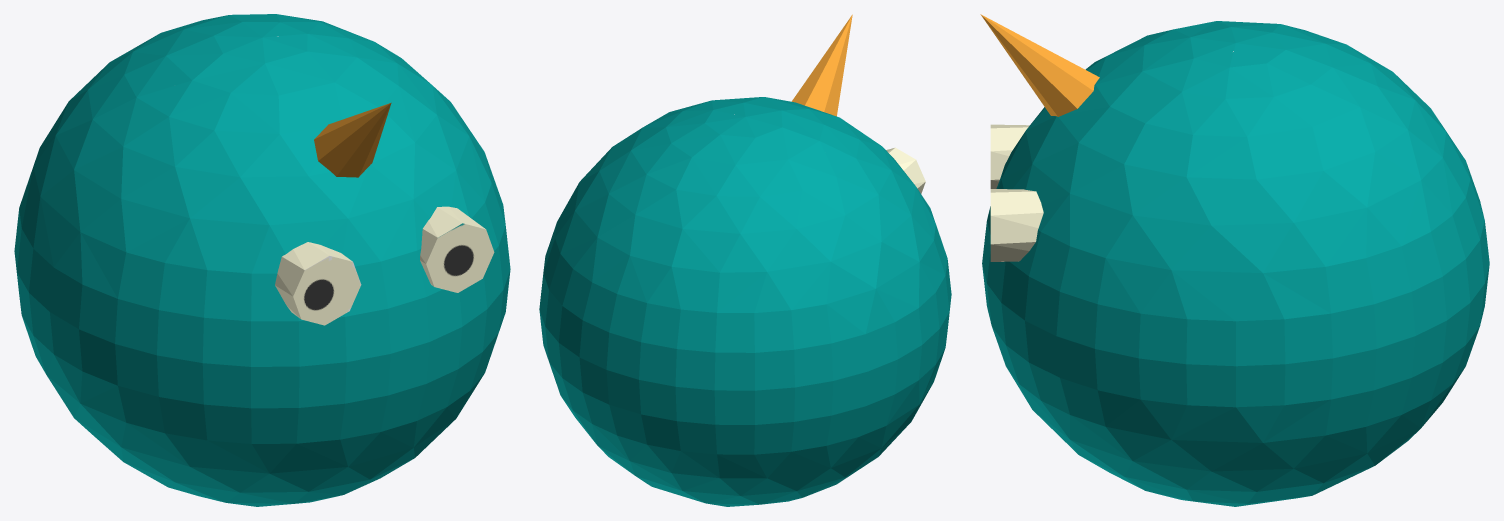
The model's file is player.obj.
3 views of the same model, side by side, from view 1: azimuth 30°, elevation 25°; view 2: azimuth 150°, elevation 25°; view 3: azimuth 270°, elevation 25° (orthographic). The views are drawn at different scales.
Parts seen in each view (by area): view 1: 球; view 2: 球; view 3: 球.
Part boxes in pixels (left/top/right/bottom): 球: left=14, top=14, right=510, bottom=506; 球: left=539, top=14, right=951, bottom=506; 球: left=980, top=14, right=1489, bottom=506.
Bounding box in the file's own units: 0.787 × 0.8389 × 0.8245.
Materials: 1 (1 with a texture image).
